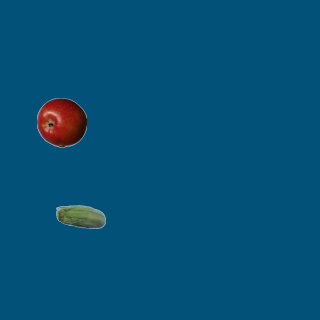Apple Braeburn: (36, 97, 86, 147)
Corn Husk: (55, 193, 105, 243)
